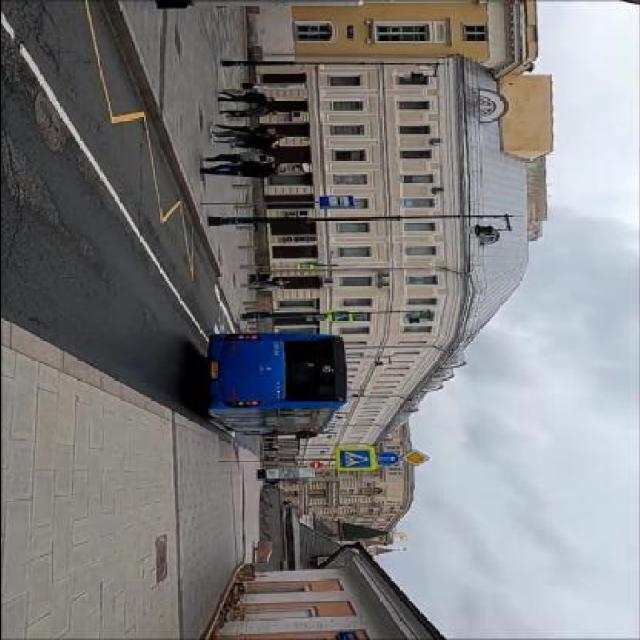bus: (202, 332, 346, 440)
